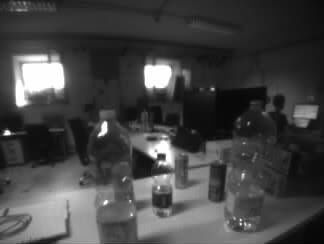Bottle: (91, 109, 140, 244), (225, 101, 266, 230), (152, 154, 172, 217)
Tin can: (209, 161, 224, 202), (173, 153, 188, 186)
